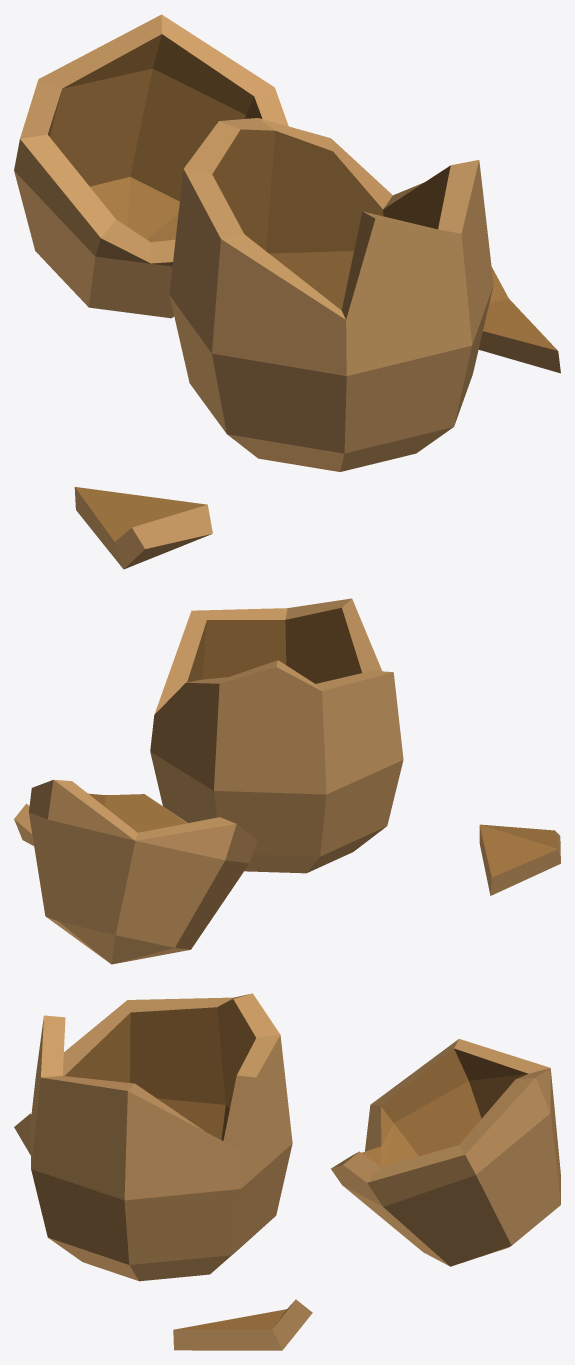
The model's file is egg-dino-open.glb.
3 views of the same model, one above another, from view 1: azimuth 30°, elevation 25°; view 2: azimuth 150°, elevation 25°; view 3: azimuth 270°, elevation 25° (orthographic). The views are drawn at different scales.
Parts seen in each view (by area): view 1: egg-dino-open; view 2: egg-dino-open; view 3: egg-dino-open.
Boxes of the visible parts, bbox=[...] form: egg-dino-open: bbox=[14, 14, 560, 569]; egg-dino-open: bbox=[14, 598, 560, 964]; egg-dino-open: bbox=[14, 993, 560, 1350].
Bounding box in the file's own units: 0.711 × 0.3745 × 0.7566.
Materials: 1 (1 with a texture image).
